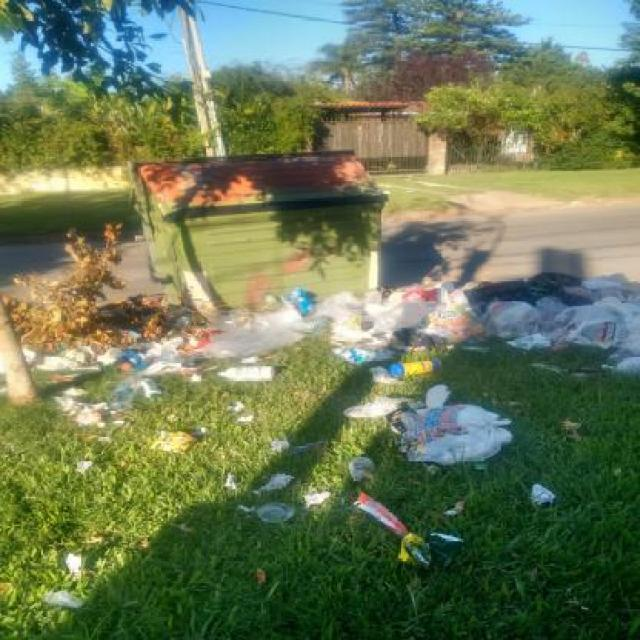garbage: (337, 290, 640, 346), (365, 385, 499, 468), (36, 322, 130, 425), (137, 330, 274, 379), (171, 294, 334, 332), (365, 492, 441, 564), (232, 471, 290, 522), (263, 431, 328, 455), (38, 582, 86, 606), (529, 477, 560, 507), (600, 354, 638, 376), (156, 426, 185, 453)
